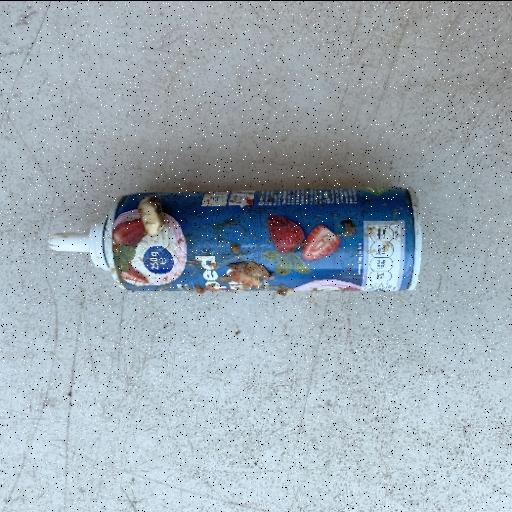Metal: (46, 184, 423, 298)
